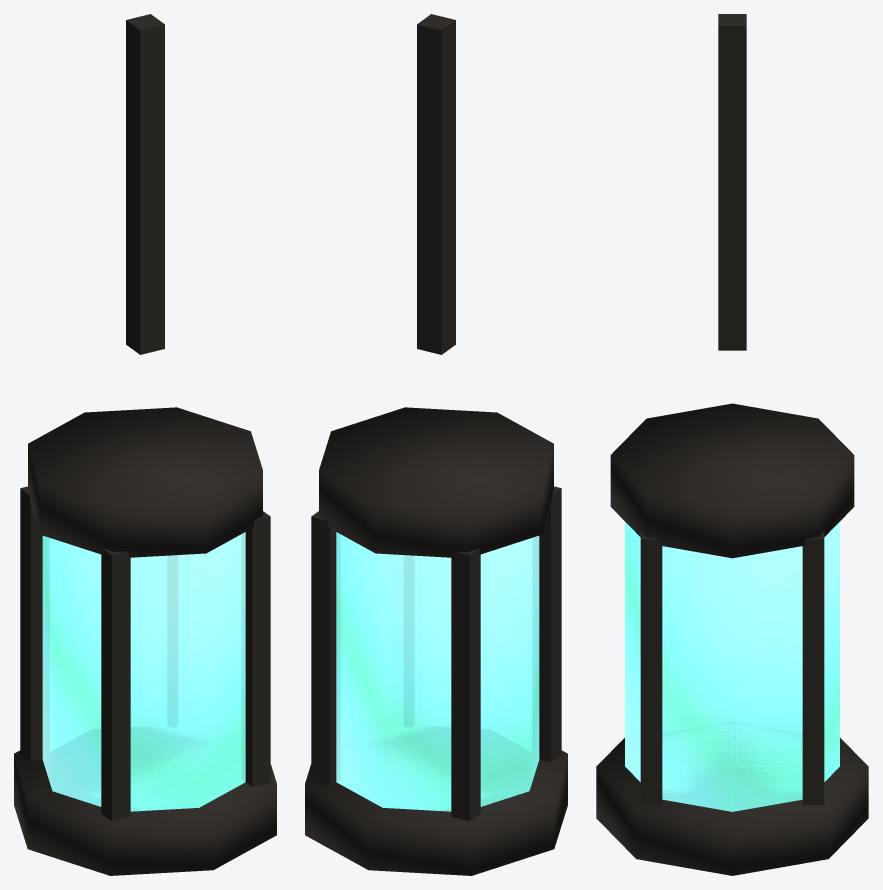
File: cos_lantern.glb
The picture shows the model from 3 angles, left to right: view 1: azimuth 30°, elevation 25°; view 2: azimuth 150°, elevation 25°; view 3: azimuth 270°, elevation 25°; orthographic projection.
Parts seen in each view (by area): view 1: cos_lantern_iron, cos_lantern_glow; view 2: cos_lantern_iron, cos_lantern_glow; view 3: cos_lantern_iron, cos_lantern_glow.
Part boxes in pixels (left/top/right/bottom): cos_lantern_iron: left=14, top=14, right=276, bottom=875; cos_lantern_glow: left=42, top=532, right=245, bottom=811; cos_lantern_iron: left=305, top=14, right=567, bottom=875; cos_lantern_glow: left=336, top=532, right=539, bottom=811; cos_lantern_iron: left=596, top=14, right=868, bottom=875; cos_lantern_glow: left=625, top=522, right=839, bottom=811.
Size of the model in its own units: 0.38 by 1.23 by 0.38.
